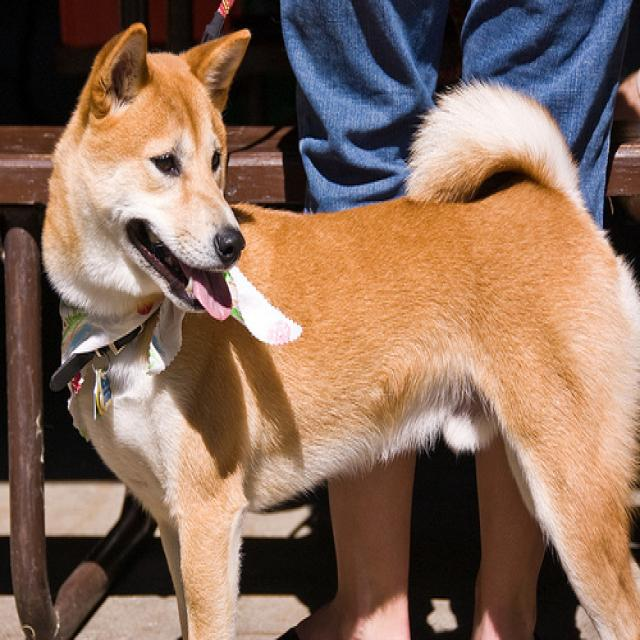dog-shiba_inu: (29, 5, 637, 637)
